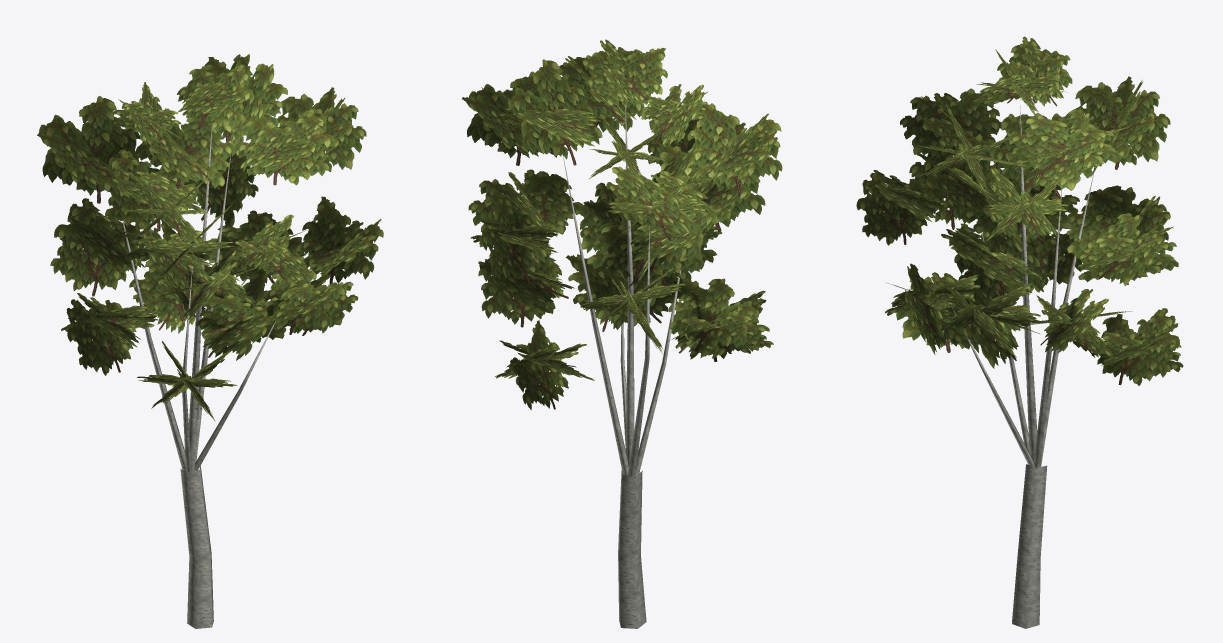
File: birch.glb
The picture shows the model from 3 angles, left to right: view 1: azimuth 30°, elevation 25°; view 2: azimuth 150°, elevation 25°; view 3: azimuth 270°, elevation 25°; orthographic projection. The views are drawn at different scales.
Parts seen in each view (by area): view 1: birch_foliage, birch_wood; view 2: birch_foliage, birch_wood; view 3: birch_foliage, birch_wood.
Part boxes in pixels (x1,y1,x2,y2): birch_foliage: (37,54,383,421); birch_wood: (122,127,274,628); birch_foliage: (462,39,782,409); birch_wood: (563,105,681,628); birch_foliage: (856,36,1183,385); birch_wood: (950,98,1093,628).
Size of the model in its own units: 5.71 by 9.19 by 5.4.
2 materials, 2 textured.
